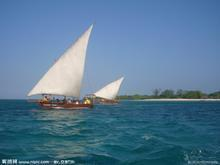fanchuan: (24, 24, 94, 111), (95, 75, 127, 105)
